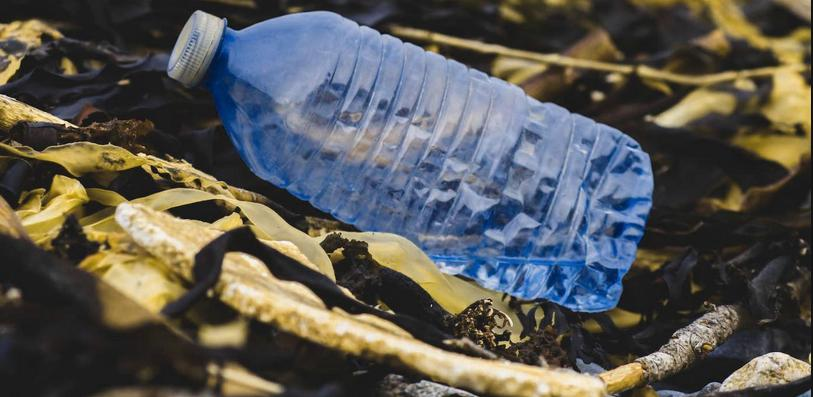Plastic: (163, 0, 659, 340)
